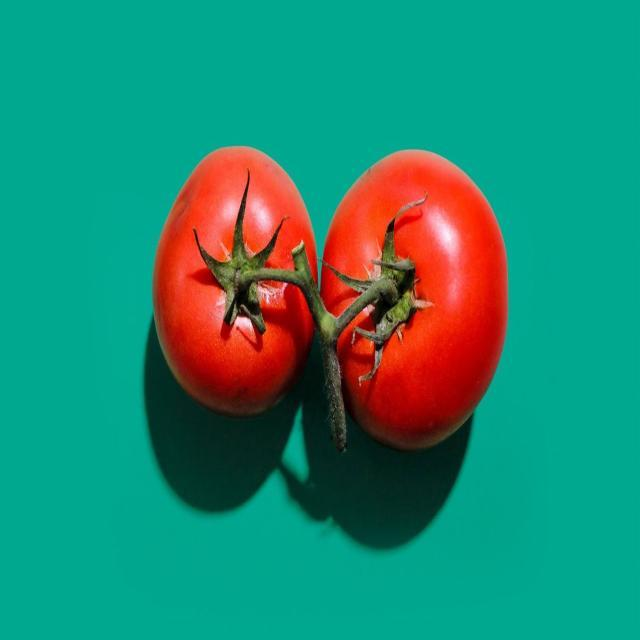kirmizi: (140, 146, 520, 476)
